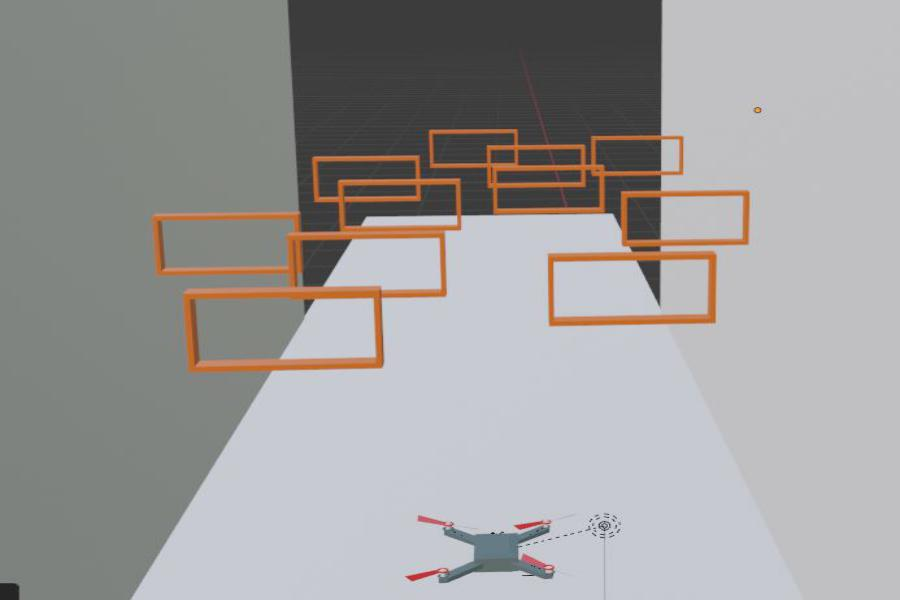GATE: (181, 286, 385, 372), (544, 250, 715, 325), (283, 235, 451, 298), (145, 210, 306, 272), (613, 189, 751, 247), (334, 177, 464, 235), (310, 152, 423, 205), (489, 166, 606, 213), (482, 146, 588, 188), (592, 133, 684, 175), (426, 129, 519, 166)
